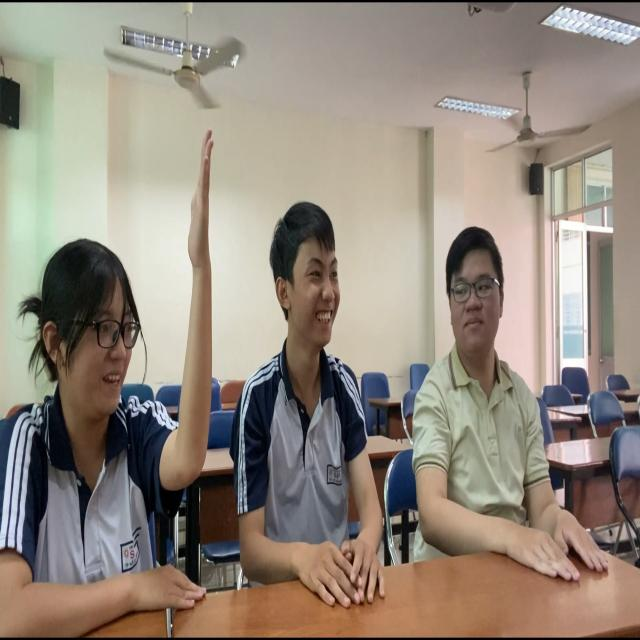raise_hand: (1, 123, 219, 640)
